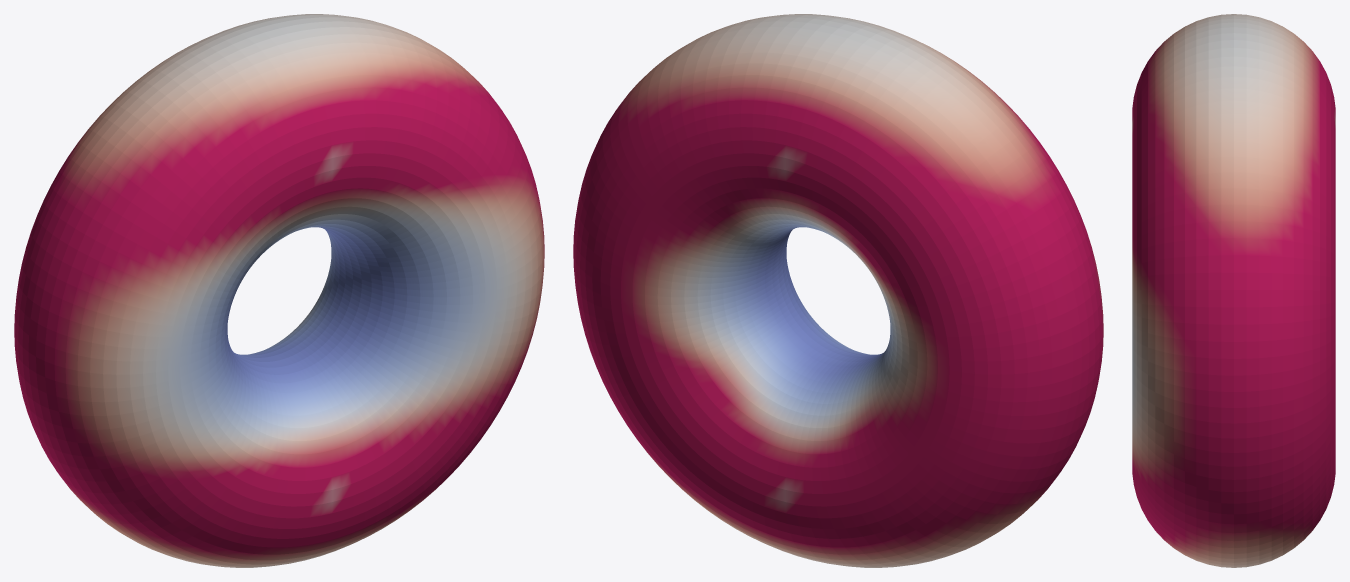
The picture shows the model from 3 angles, left to right: view 1: azimuth 30°, elevation 25°; view 2: azimuth 150°, elevation 25°; view 3: azimuth 270°, elevation 25°; orthographic projection. The views are drawn at different scales.
Visible parts, largest first — view 1: world; view 2: world; view 3: world.
Part boxes in pixels (bbox=[...]): world: bbox=[14, 14, 544, 567]; world: bbox=[573, 14, 1103, 567]; world: bbox=[1132, 14, 1335, 567].
Bounding box in the file's own units: 24.27 × 24.27 × 8.92.
